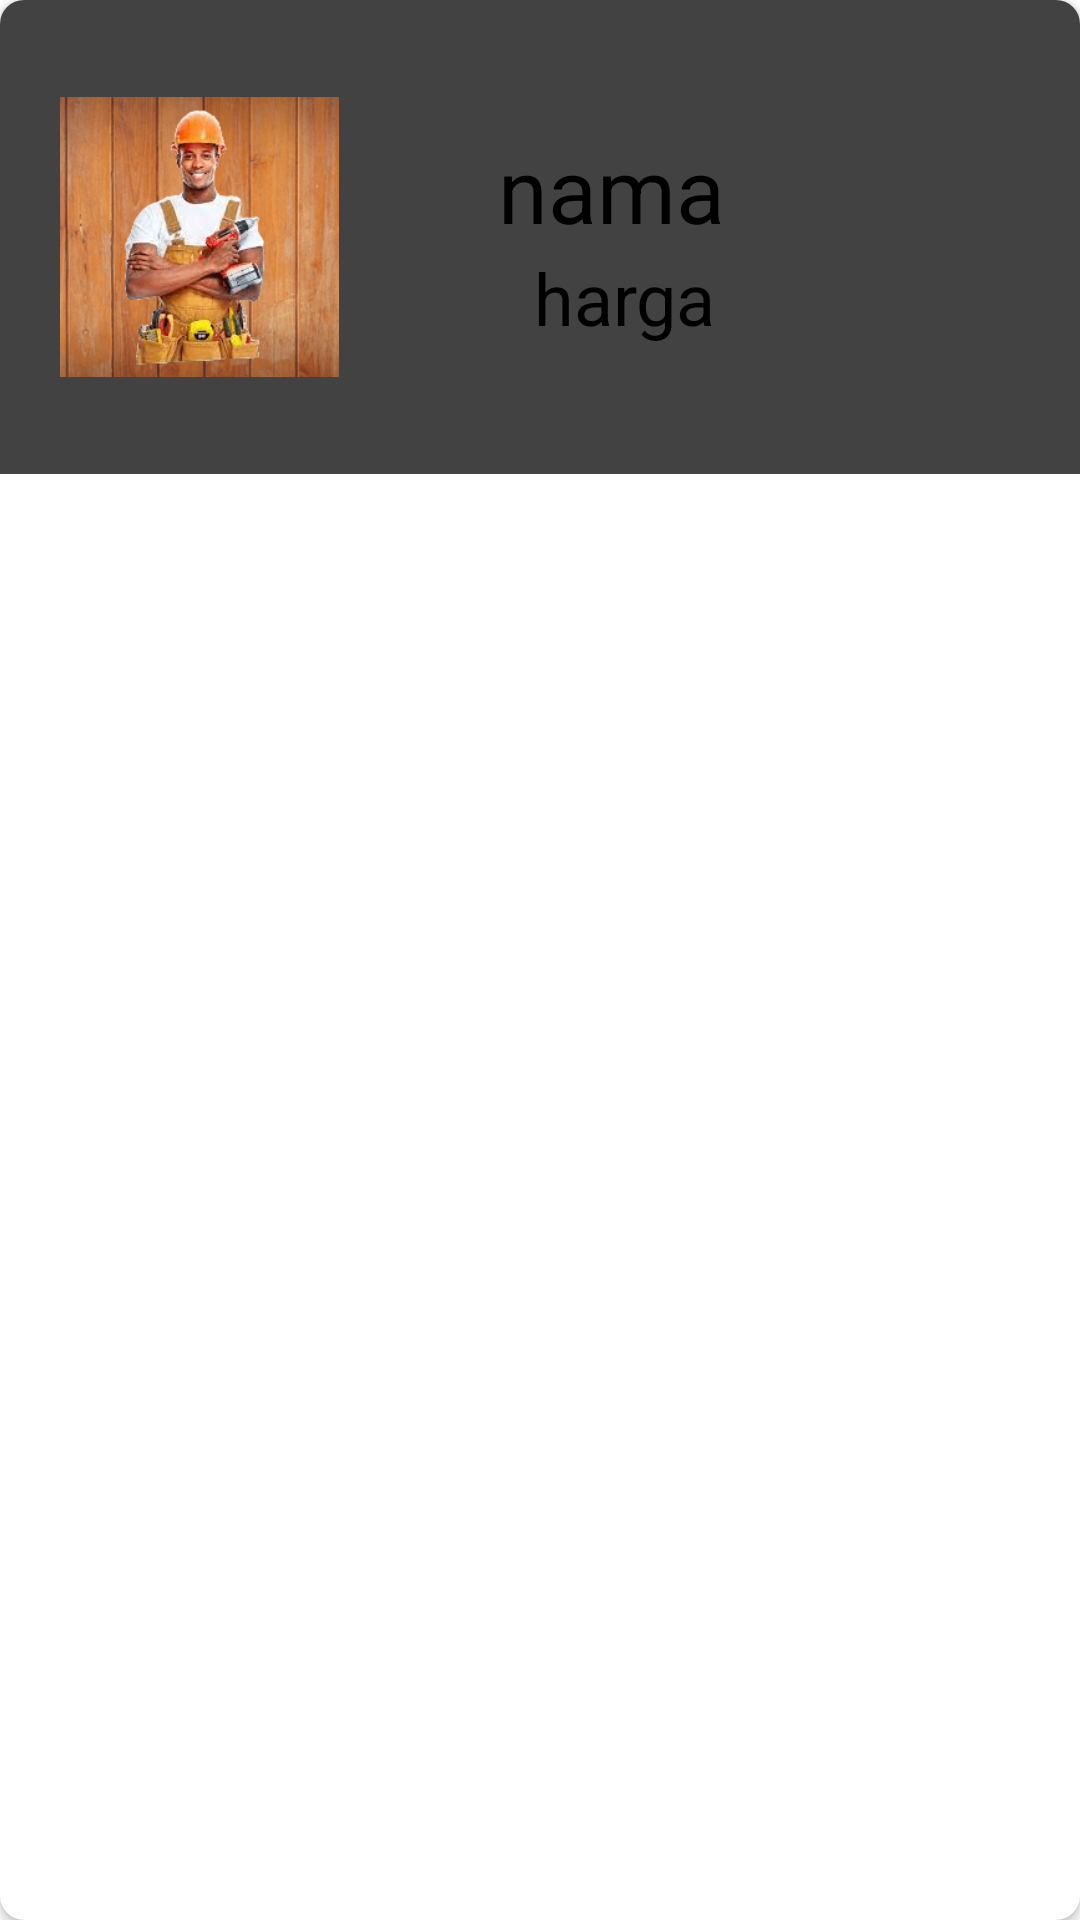

Point at icon controls on the screen. Image size 1080x1920, points as (x,y).
kuli: (199,237)
